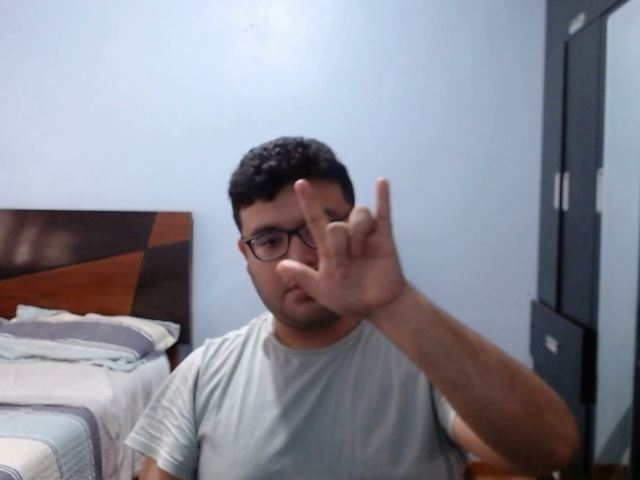I love you: (273, 176, 418, 328)
